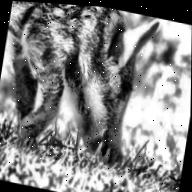boar: (0, 0, 164, 182)
